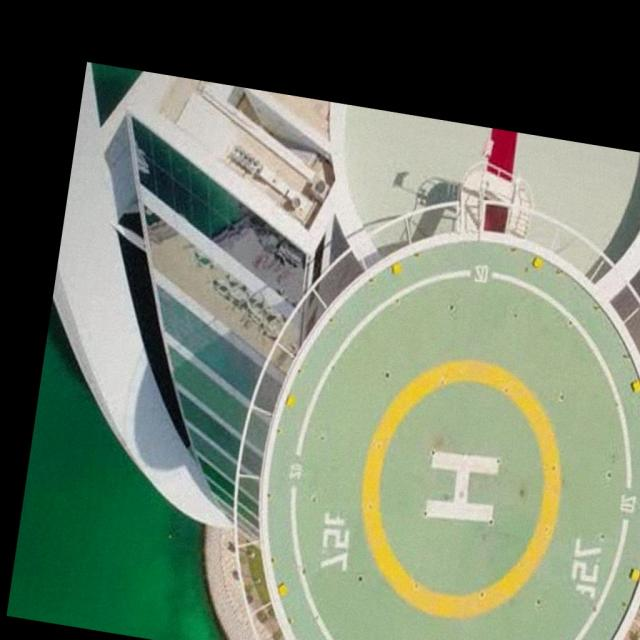helipad: (357, 352, 566, 624)
